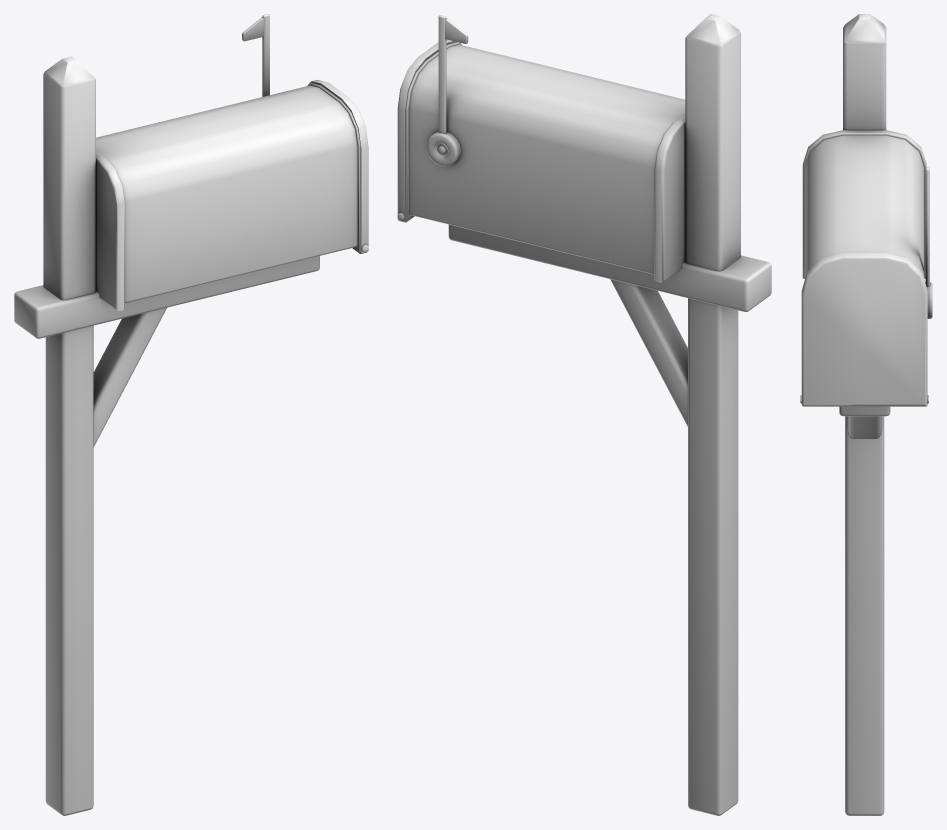
The model's file is mail.obj.
3 views of the same model, side by side, from view 1: azimuth 30°, elevation 25°; view 2: azimuth 150°, elevation 25°; view 3: azimuth 270°, elevation 25° (orthographic). The views are drawn at different scales.
Parts seen in each view (by area): view 1: Mail-Box.001_Cube.009; view 2: Mail-Box.001_Cube.009; view 3: Mail-Box.001_Cube.009.
Part boxes in pixels (x1,y1,x2,y2): Mail-Box.001_Cube.009: [14, 14, 368, 815]; Mail-Box.001_Cube.009: [397, 14, 771, 815]; Mail-Box.001_Cube.009: [800, 14, 932, 815].
Bounding box in the file's own units: 6.94 × 15.77 × 2.38.
